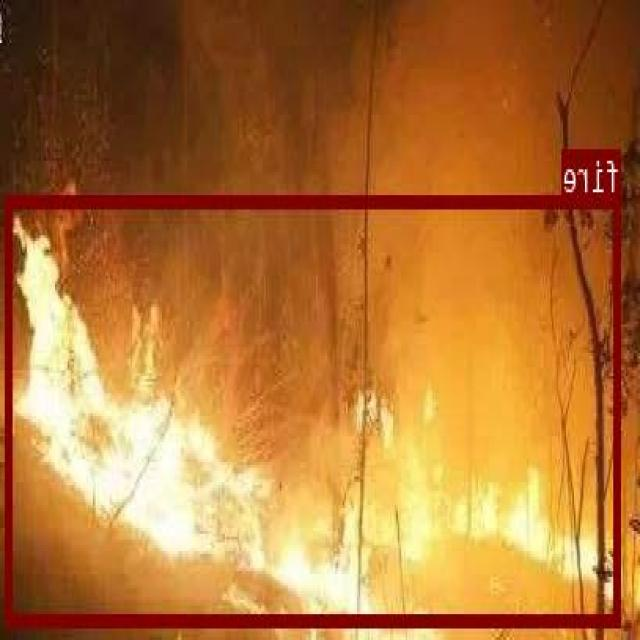fire: (7, 195, 622, 624)
